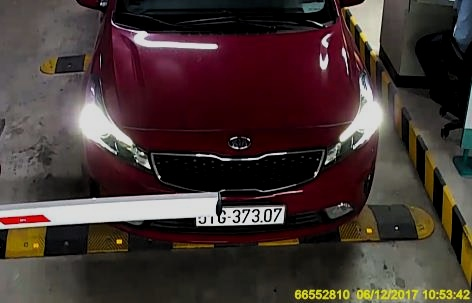plate: (195, 203, 288, 227)
